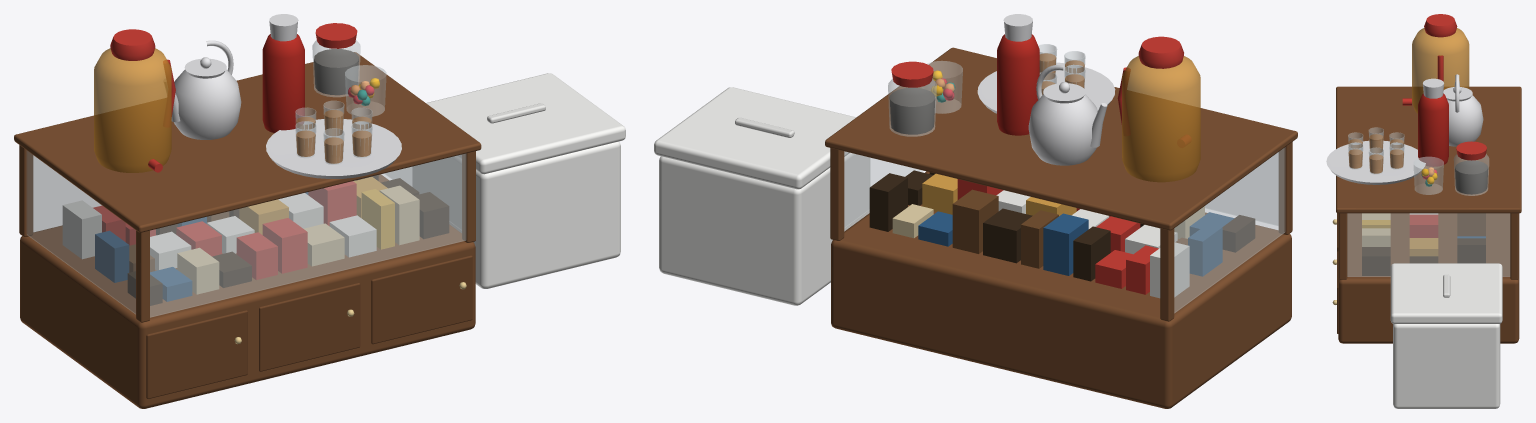
The model's file is stall.glb.
3 renders of one model, left to right at view 1: azimuth 30°, elevation 25°; view 2: azimuth 150°, elevation 25°; view 3: azimuth 270°, elevation 25°, orthographic. The views are drawn at different scales.
Visible parts, largest first — view 1: stall; view 2: stall; view 3: stall.
Part boxes in pixels (x1,y1,x2,y2): stall: [14, 14, 625, 408]; stall: [654, 14, 1297, 408]; stall: [1326, 14, 1521, 408].
Bounding box in the file's own units: 1.87 × 1.05 × 0.82.
